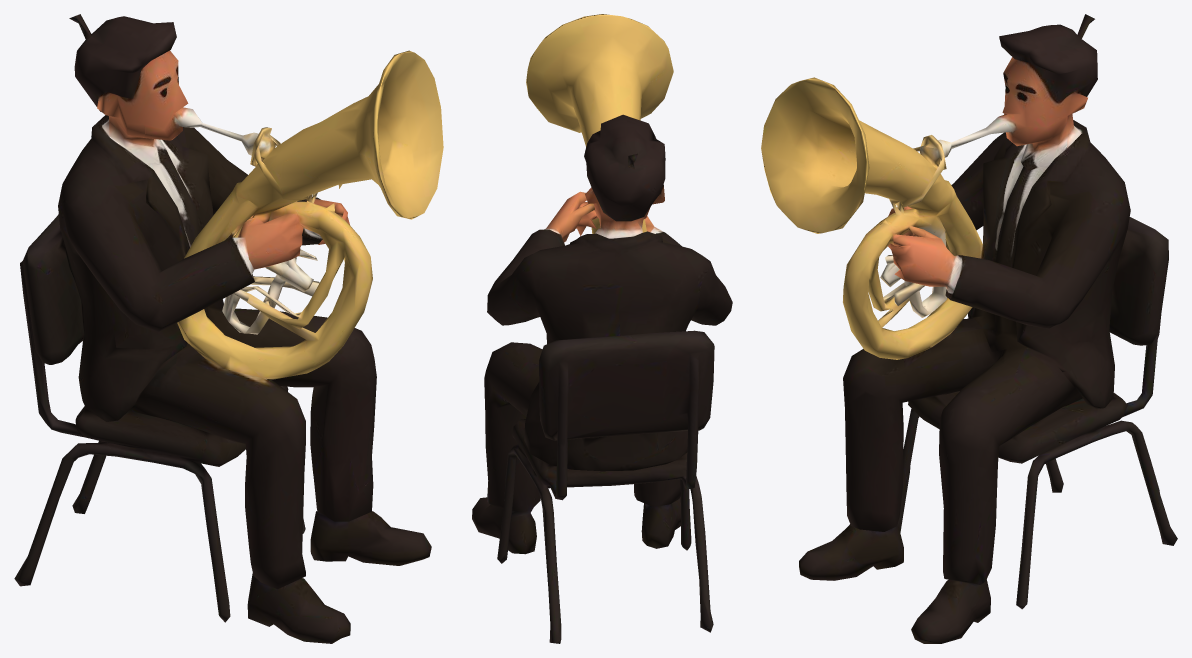
Rendered from tubist.glb.
3 views of the same model, side by side, from view 1: azimuth 30°, elevation 25°; view 2: azimuth 150°, elevation 25°; view 3: azimuth 270°, elevation 25° (orthographic). The views are drawn at different scales.
Visible parts, largest first — view 1: tripo_node_41ecca68-4436-4dea-a203-9cb24e60767c; view 2: tripo_node_41ecca68-4436-4dea-a203-9cb24e60767c; view 3: tripo_node_41ecca68-4436-4dea-a203-9cb24e60767c.
Part boxes in pixels (x1,y1,x2,y2): tripo_node_41ecca68-4436-4dea-a203-9cb24e60767c: [14, 14, 443, 643]; tripo_node_41ecca68-4436-4dea-a203-9cb24e60767c: [472, 14, 732, 643]; tripo_node_41ecca68-4436-4dea-a203-9cb24e60767c: [761, 14, 1177, 643].
Bounding box in the file's own units: 0.8365 × 1.3 × 0.9358.
1 material, 1 textured.
